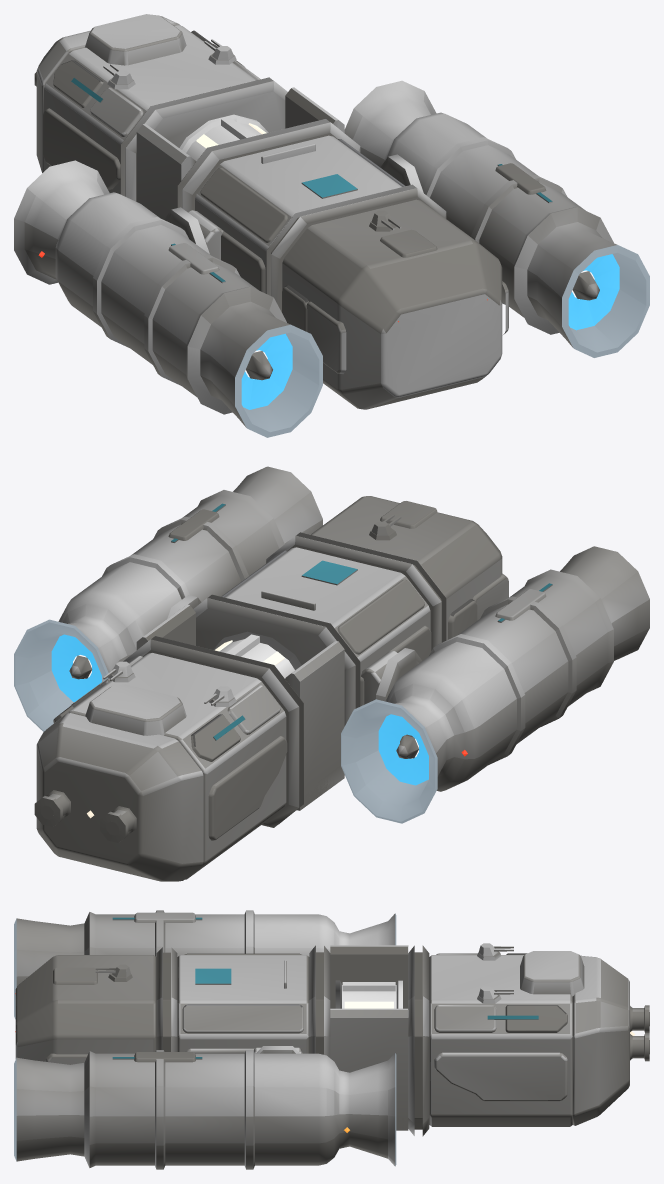
Rendered from troyden_corvette.glb.
3 renders of one model, top to bottom at view 1: azimuth 30°, elevation 25°; view 2: azimuth 150°, elevation 25°; view 3: azimuth 270°, elevation 25°, orthographic. The views are drawn at different scales.
Visible parts, largest first — view 1: hull, engines, reactor; view 2: hull, engines, reactor; view 3: hull, engines, reactor, pd_0, pd_1, pd_2.
Boxes of the visible parts, left/top/right/bottom form: hull: left=34, top=14, right=508, bottom=409; engines: left=14, top=80, right=649, bottom=437; reactor: left=179, top=114, right=268, bottom=161; hull: left=34, top=496, right=508, bottom=881; engines: left=14, top=466, right=649, bottom=823; reactor: left=212, top=631, right=301, bottom=678; hull: left=15, top=945, right=649, bottom=1136; engines: left=14, top=910, right=396, bottom=1169; reactor: left=335, top=980, right=402, bottom=1008; pd_0: left=477, top=943, right=513, bottom=960; pd_1: left=477, top=986, right=513, bottom=1003; pd_2: left=95, top=964, right=132, bottom=981.
Size of the model in its own units: 28.75 by 10.54 by 42.2.
Materials: 9 (4 with a texture image).
